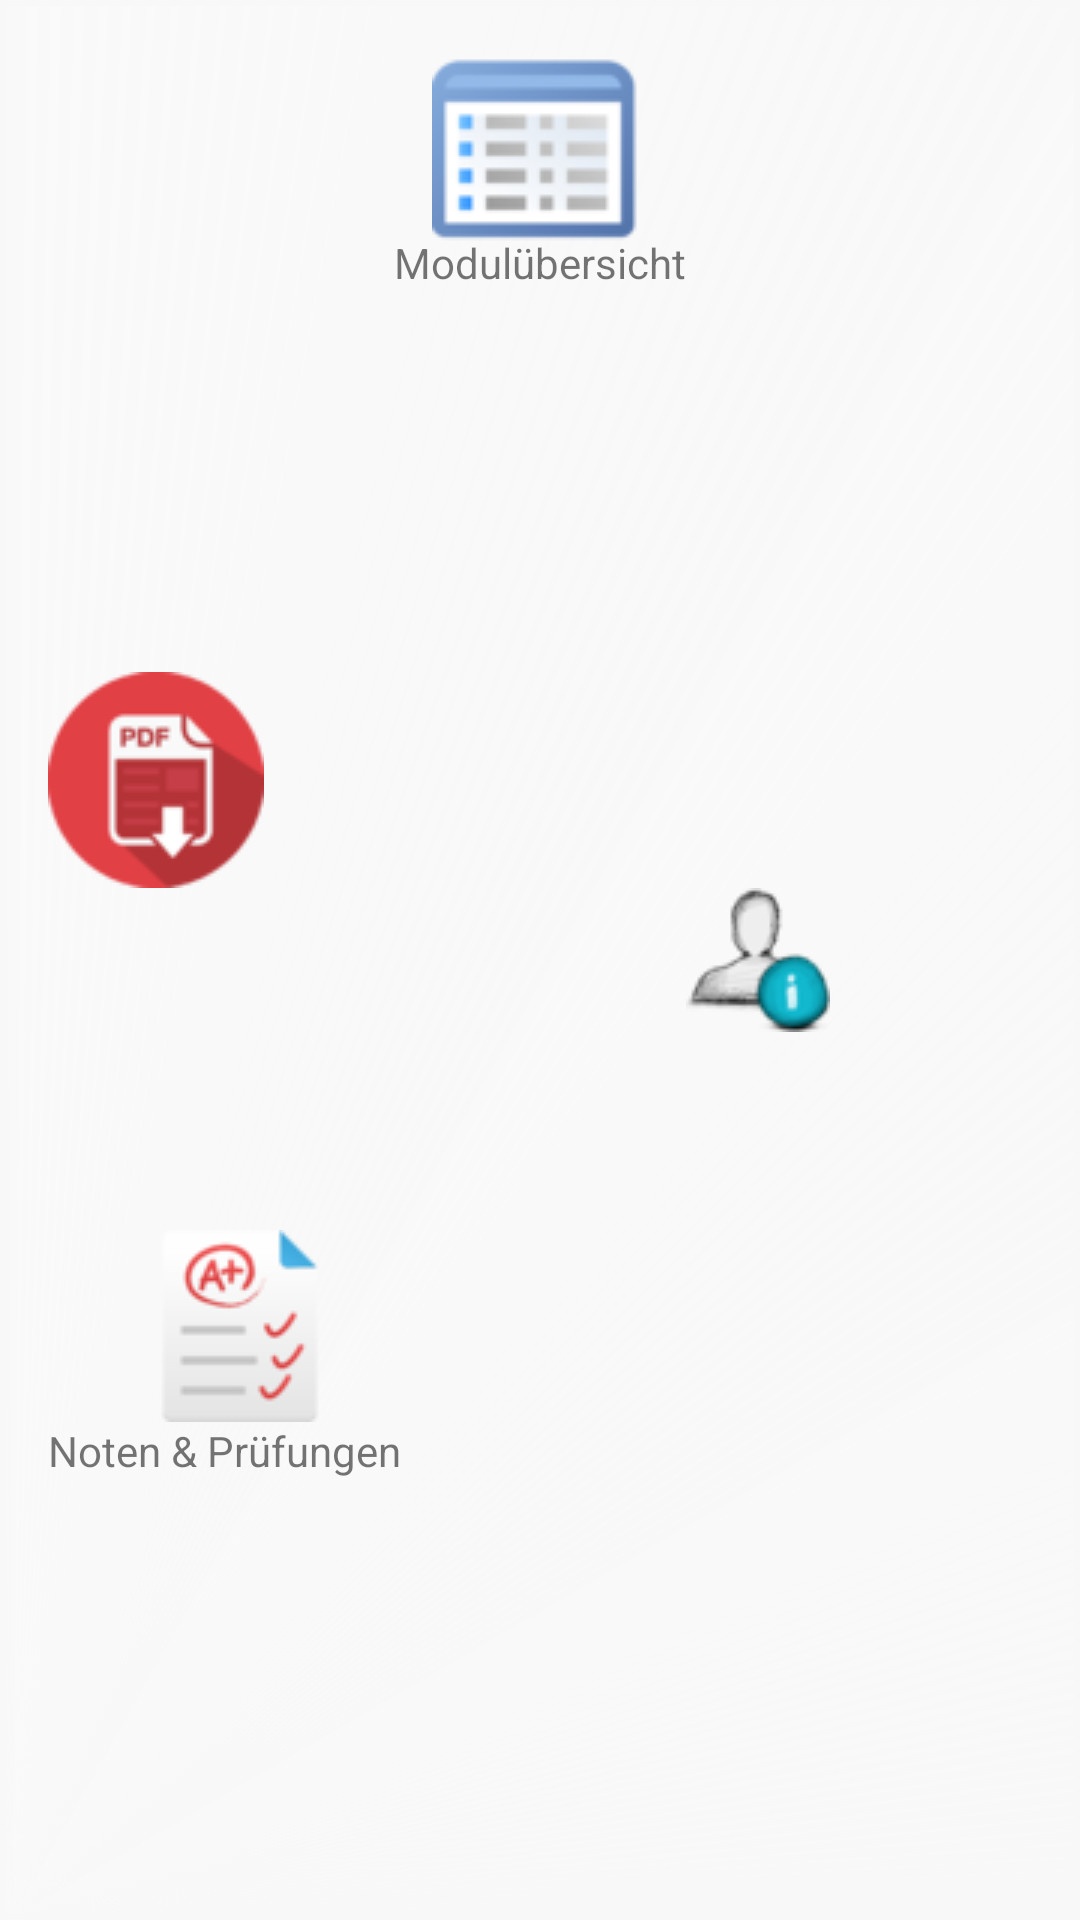

Icons on this 1080 × 1920 Android screen, each with the point to tap as (x,y):
pdf download: (156,780)
